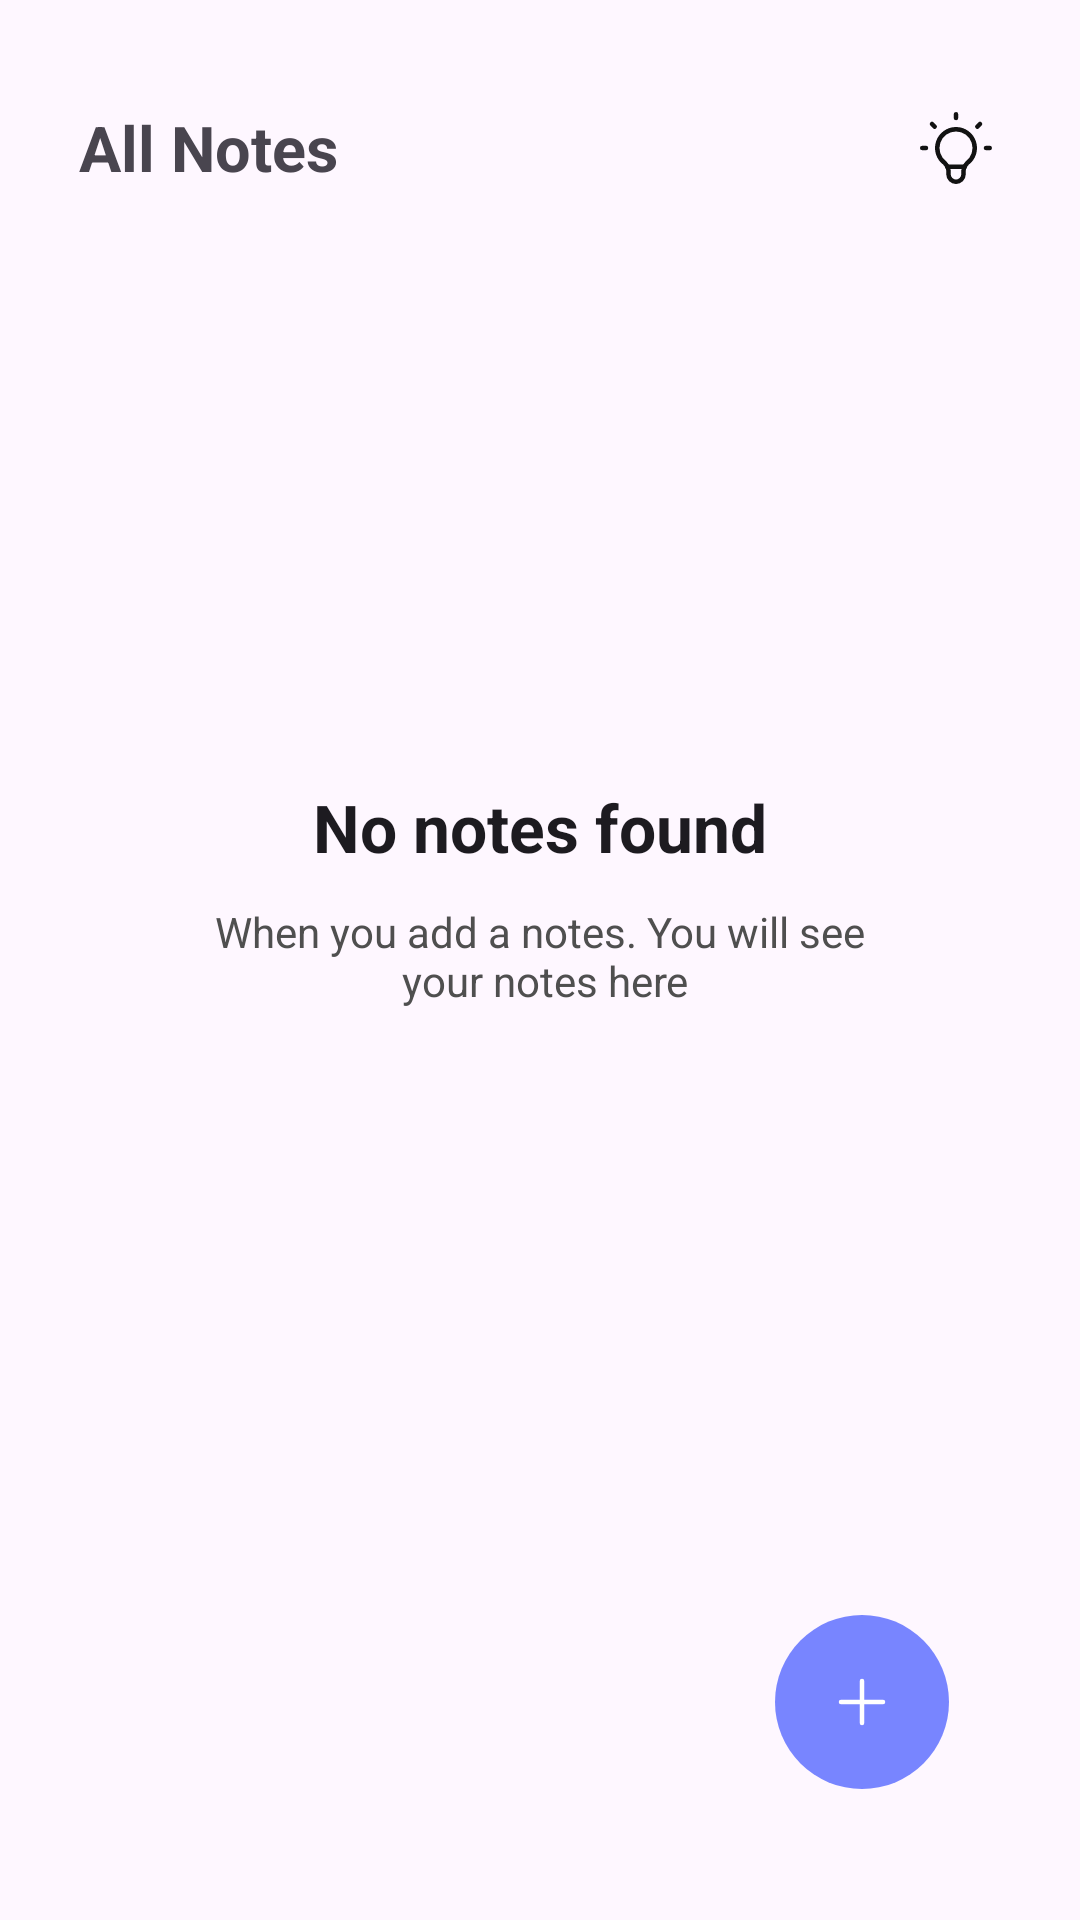

Locate icon controls on the screen. Image size 1080 × 1920, boxes as (x1, y1, x2, y2).
add note: (775, 1615, 949, 1789)
idea: (920, 112, 992, 184)
